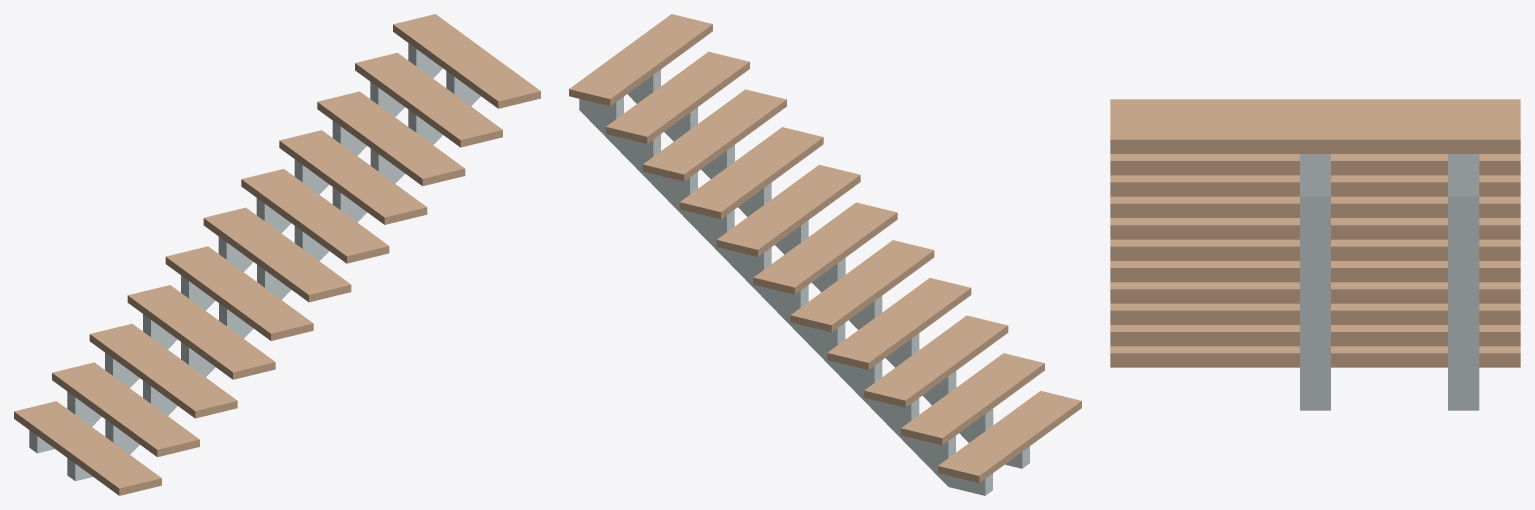
Rendered from stairsOpen.glb.
3 renders of one model, left to right at view 1: azimuth 30°, elevation 25°; view 2: azimuth 150°, elevation 25°; view 3: azimuth 270°, elevation 25°, orthographic. The views are drawn at different scales.
Parts seen in each view (by area): view 1: stairsOpen(Clone), Group.002, Group.003; view 2: stairsOpen(Clone), Group.002, Group.003; view 3: stairsOpen(Clone), Group.002, Group.003.
Boxes of the visible parts, x1,y1,x2,y2 form: stairsOpen(Clone): [14, 14, 540, 495]; Group.002: [29, 43, 442, 453]; Group.003: [67, 71, 480, 481]; stairsOpen(Clone): [569, 14, 1081, 482]; Group.002: [579, 96, 992, 495]; Group.003: [627, 69, 1029, 468]; stairsOpen(Clone): [1110, 99, 1520, 367]; Group.002: [1448, 154, 1479, 410]; Group.003: [1300, 154, 1330, 410].
Size of the model in its own units: 3.65 by 2.68 by 1.58.
